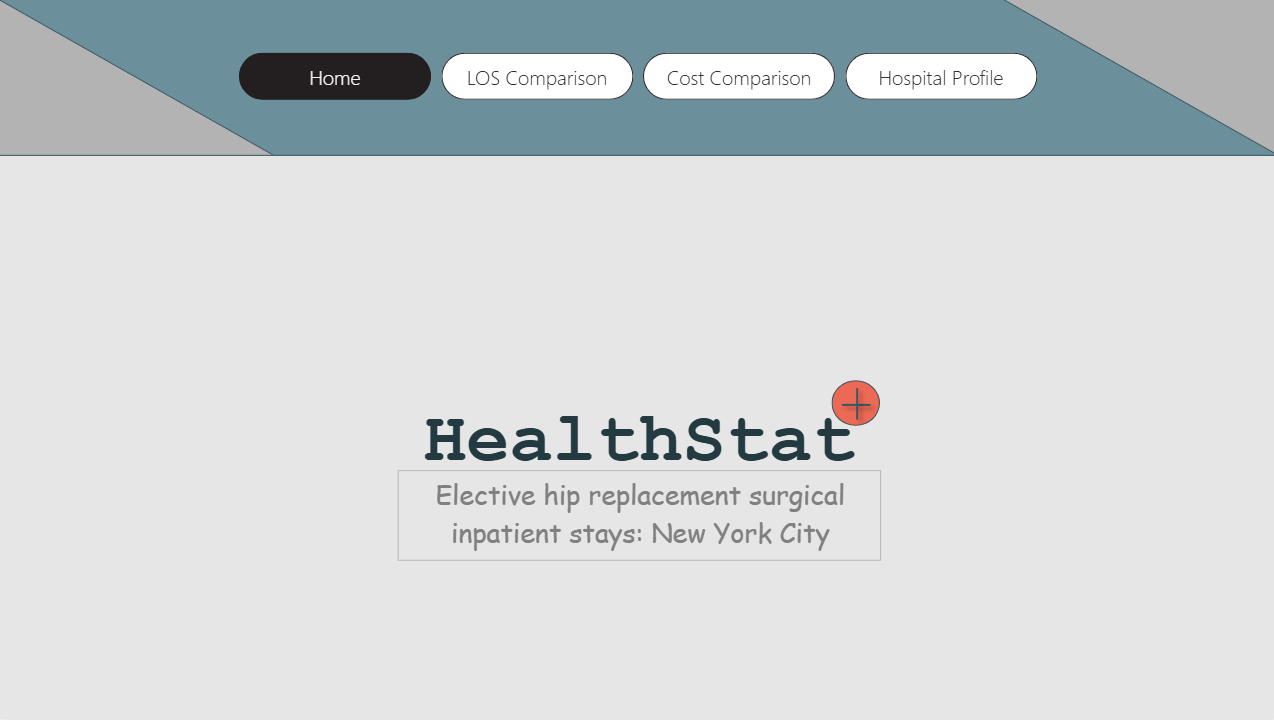

This screenshot's page, from the dashboard's own definition file:
{"tool":"powerbi","page":{"name":"Home","canvas":[1280,720],"ordinal":0},"visuals":[{"type":"shape","box":[832.9,381.4,48.6,45.7],"z":0},{"type":"shape","box":[0,0,1280,157.1],"z":1000},{"type":"shape","box":[1002.9,0,277.1,157.1],"z":2000},{"type":"pageNavigator","box":[240,54.3,800,47.1],"z":3000},{"type":"textbox","box":[408.6,395.7,462.9,91.4],"z":4000},{"type":"shape","box":[0,0,277.1,157.1],"z":5000},{"type":"textbox","box":[398.3,471.7,483.3,90],"z":6000},{"type":"shape","box":[834.3,327.1,47.1,157.1],"z":7000},{"type":"shape","box":[835,380,46.7,50],"z":8000}]}

Visuals, with their boxes in screenshot pixels (x1, y1, x2, y2), scaled from the page's 1280x720 canvas onto the 1274x720 screenshot:
shape: rect(829, 381, 877, 427)
shape: rect(0, 0, 1273, 157)
shape: rect(998, 0, 1273, 157)
pageNavigator: rect(239, 54, 1035, 101)
textbox: rect(407, 396, 867, 487)
shape: rect(0, 0, 276, 157)
textbox: rect(396, 472, 877, 562)
shape: rect(830, 327, 877, 484)
shape: rect(831, 380, 878, 430)
